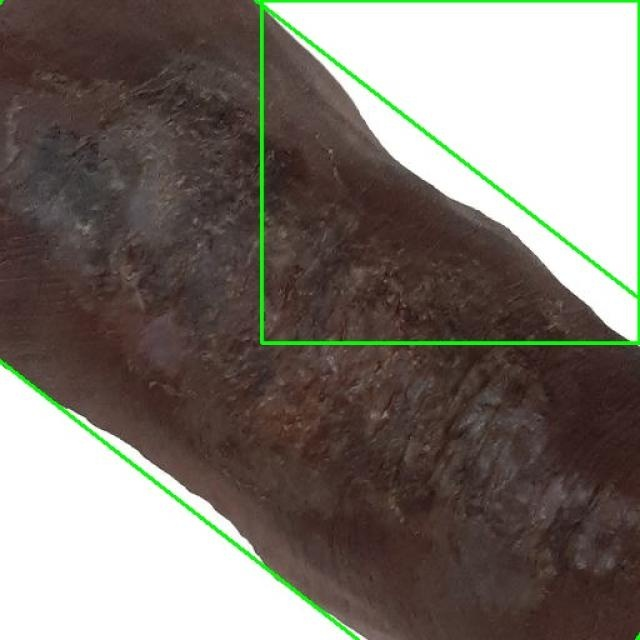Contact Dermatitis: (0, 0, 640, 640), (261, 0, 639, 342)
